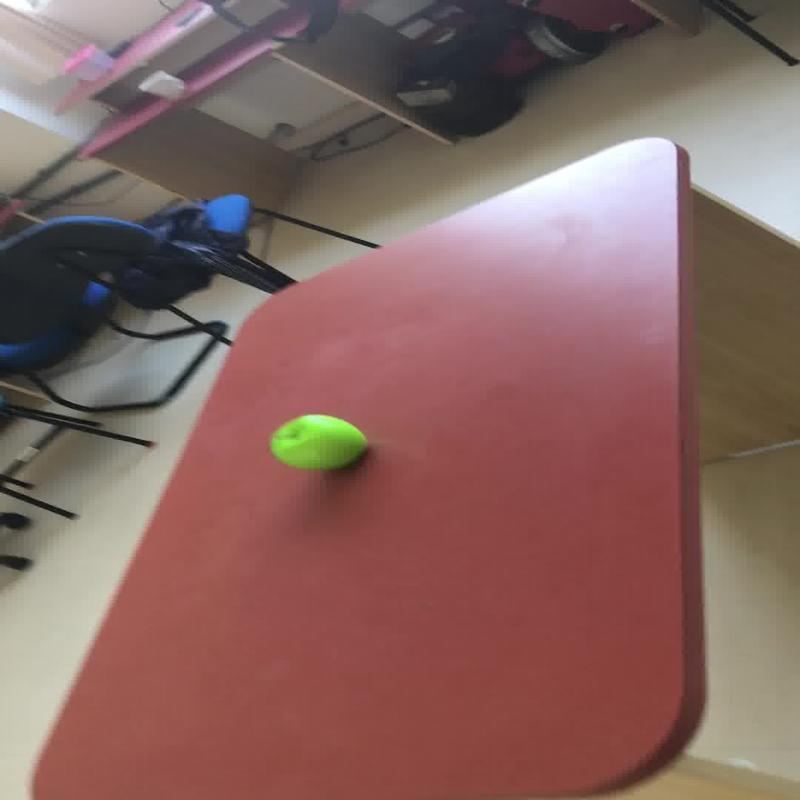apple: (267, 413, 367, 470)
